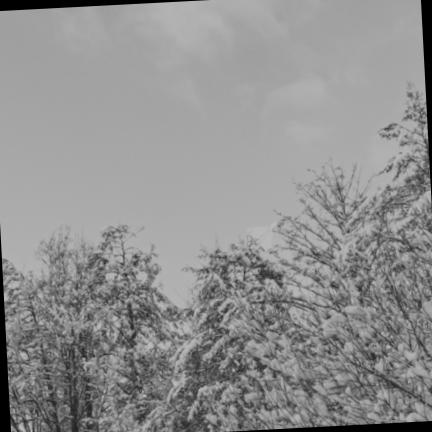Shahed: (248, 223, 276, 252)
